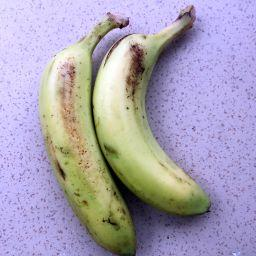Banana Ripe: (44, 4, 218, 256), (98, 5, 227, 256)
